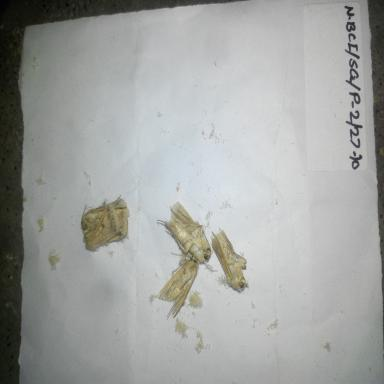abw: (156, 196, 213, 268), (73, 194, 134, 254), (156, 249, 205, 322), (209, 225, 251, 296)
